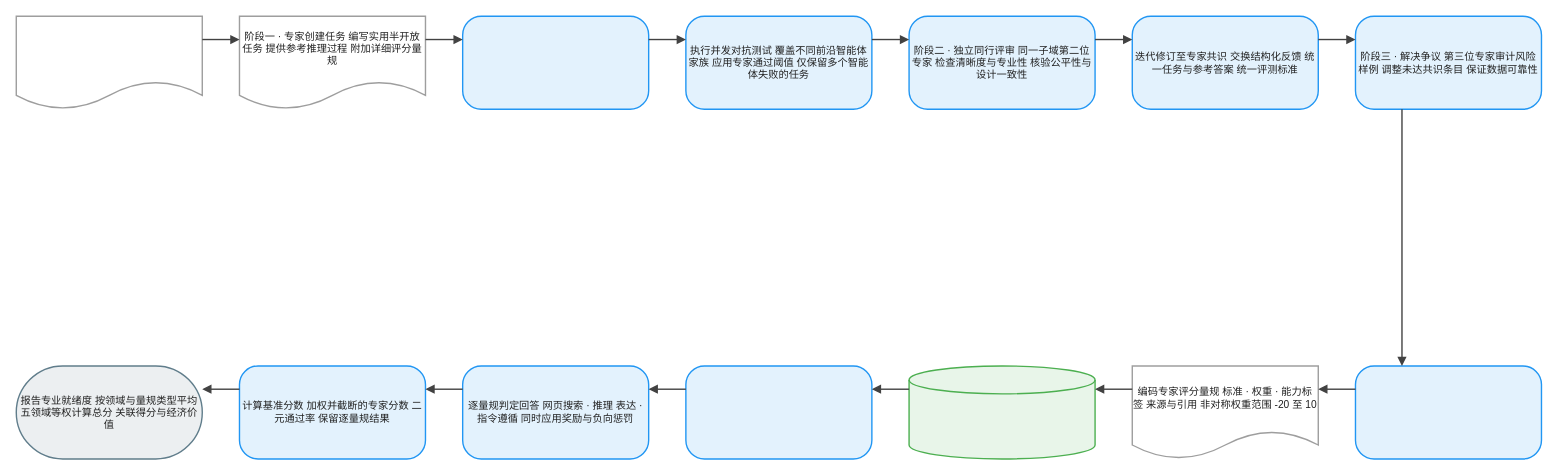
This 1559x476 diagram has some shape labels left out. Here are the shapes that lost their labels. From the top down, the centre of each, then its label:
the point at 109,62: 定义高价值专业范围 金融 · 法律 · 医疗 自然科学 · 工业 37 个子域 · 92 个三级类别
the point at 555,62: 落实任务设计原则 允许多种有效方法 答案不随时间变化 使用客观可量化标准
the point at 778,412: 运行不同智能体系统 基础语言模型 启用网页搜索的智能体 深度研究智能体
the point at 1001,412: 发布 OneMillion-Bench 400 题 · 每领域 80 题 英文全球集 200 · 中国集 200 五大领域 · 专家工作流
the point at 1448,412: 执行难度双向截断 移除所有智能体均解出的任务 复查全部低分任务 修订不可能完成的任务
